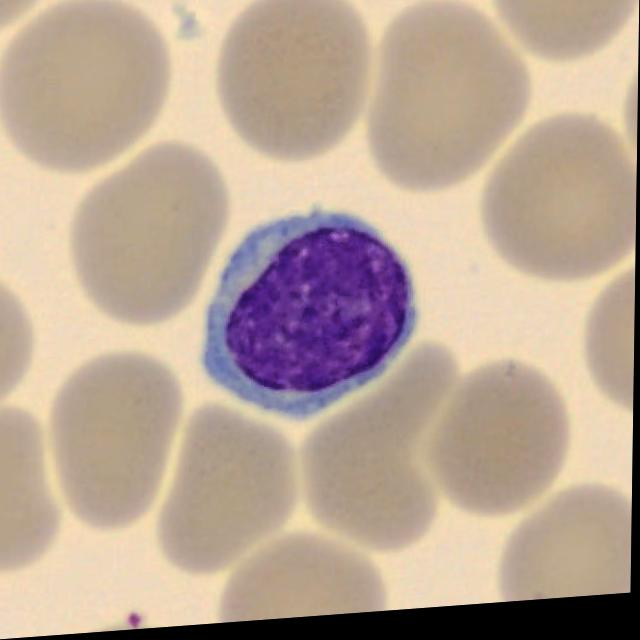Linfocito atipico: (201, 217, 418, 425)
